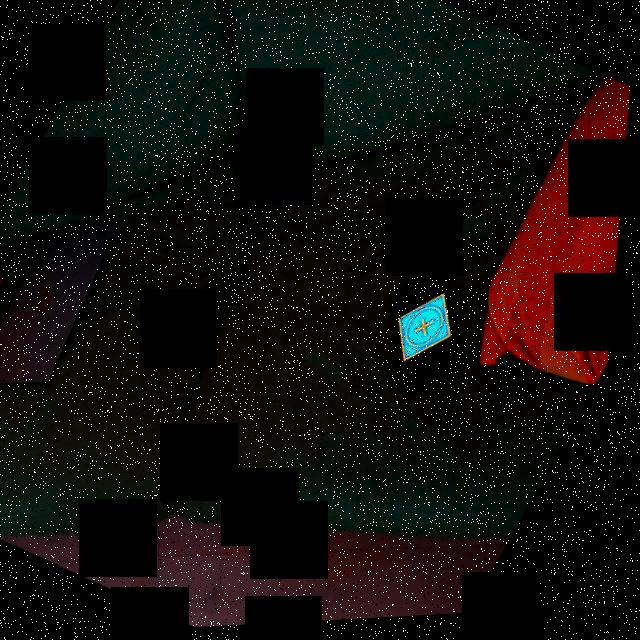Marker: (378, 278, 478, 384)
